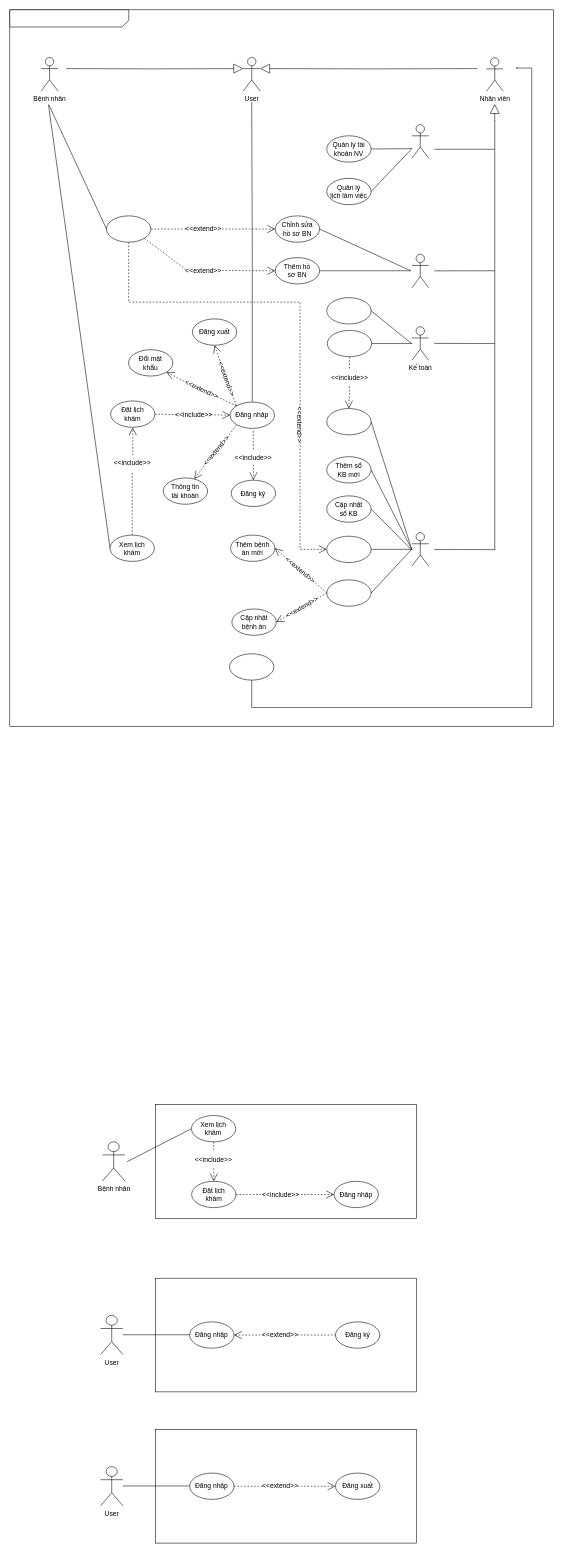
This 563x1553 diagram has some shape labels left out. Here are the shapes that lost their labels. From the top down, the centre of each, then its label:
At point 69,18: "Hệ thống quản lý Bệnh viện da lieu".
At point 420,141: "Admin".
At point 128,228: "Hồ sơ bệnh nhân".
At point 420,271: "Lễ tân".
At point 348,310: "Thống kê doanh thu".
At point 349,343: "Lập hóa đơn".
At point 348,421: "Thêm toa thuốc".
At point 348,549: "Xem sổ khám bệnh".
At point 420,549: "Bác sĩ".
At point 348,592: "Bệnh án".
At point 251,666: "Xem lịch làm việc".
